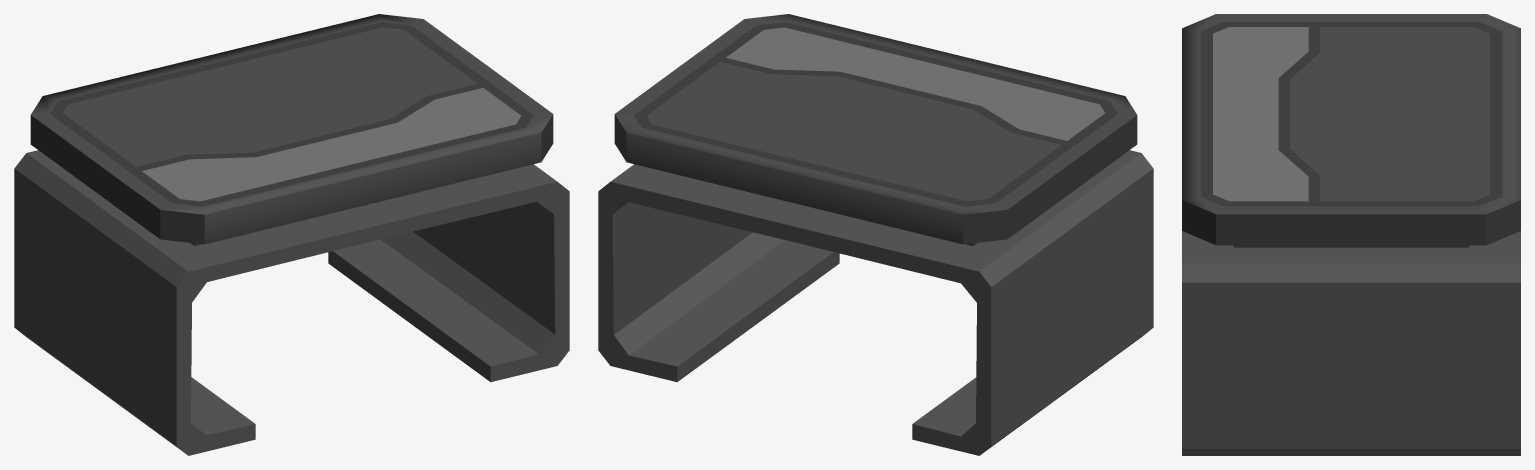
File: Desk_011.glb
3 renders of one model, left to right at view 1: azimuth 30°, elevation 25°; view 2: azimuth 150°, elevation 25°; view 3: azimuth 270°, elevation 25°, orthographic. The views are drawn at different scales.
Parts seen in each view (by area): view 1: Desk_011; view 2: Desk_011; view 3: Desk_011.
Part boxes in pixels (<box>): Desk_011: <box>14,14,569,455</box>; Desk_011: <box>598,14,1153,455</box>; Desk_011: <box>1182,14,1520,455</box>.
Bounding box in the file's own units: 1.47 × 0.8484 × 1.05.
Materials: 1 (1 with a texture image).
